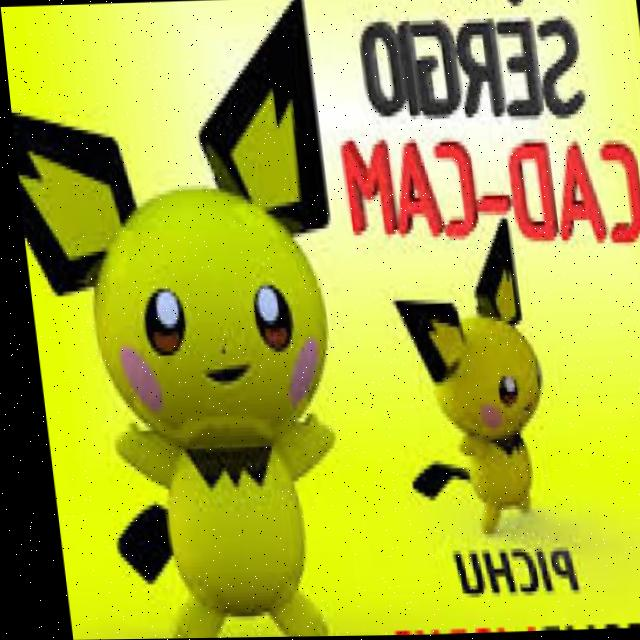pichu: (0, 0, 374, 640)
